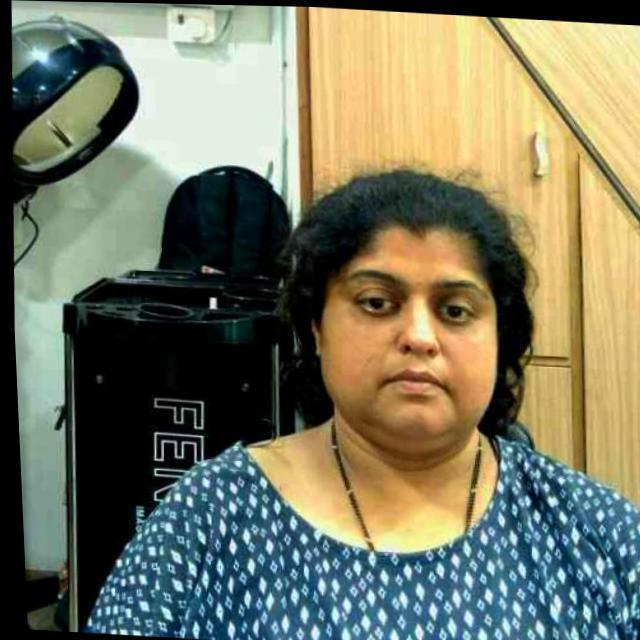puffy_eyes: (430, 308, 466, 325), (356, 306, 394, 315)
